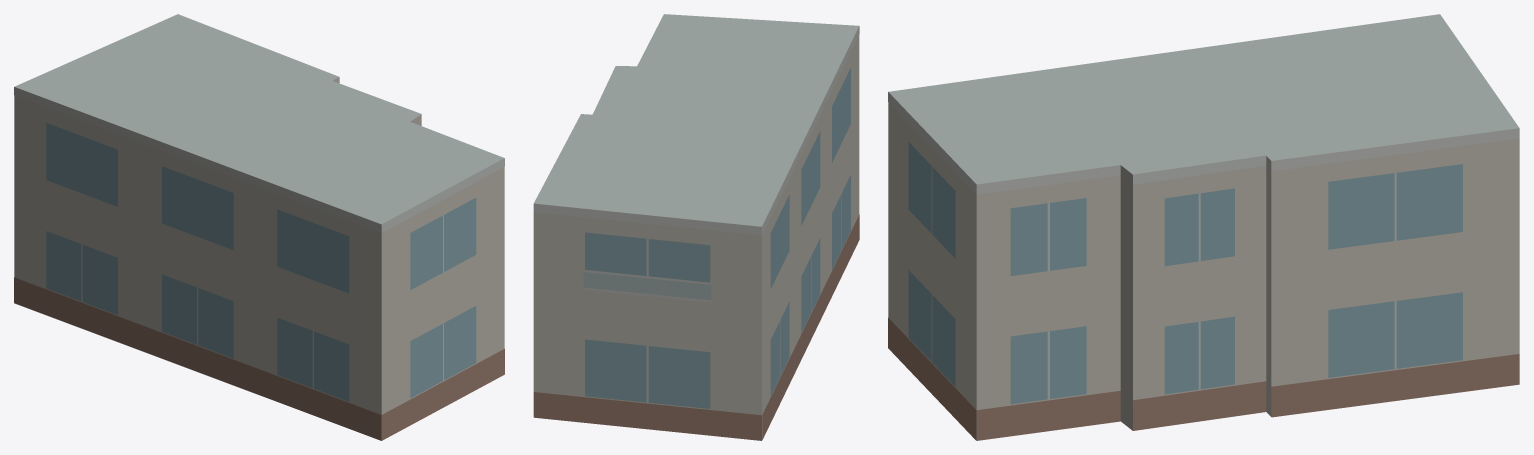
Rendered from survey-upis-32752653.glb.
The picture shows the model from 3 angles, left to right: view 1: azimuth 30°, elevation 25°; view 2: azimuth 150°, elevation 25°; view 3: azimuth 270°, elevation 25°; orthographic projection. The views are drawn at different scales.
Visible parts, largest first — view 1: survey-upis-32752653.tmp; view 2: survey-upis-32752653.tmp; view 3: survey-upis-32752653.tmp.
Part boxes in pixels (left/top/right/bottom): survey-upis-32752653.tmp: left=14, top=14, right=504, bottom=440; survey-upis-32752653.tmp: left=533, top=14, right=859, bottom=440; survey-upis-32752653.tmp: left=888, top=14, right=1519, bottom=440.
Size of the model in its own units: 8.71 by 6.1 by 13.62.
